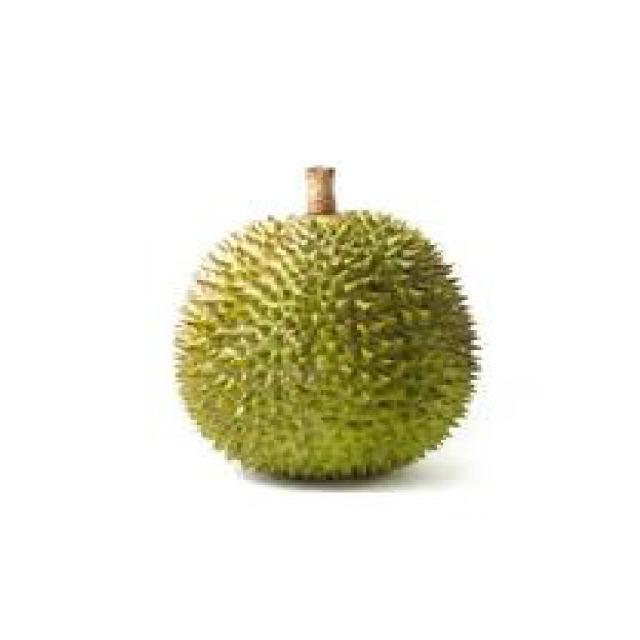Fruit: (209, 62, 625, 390)
